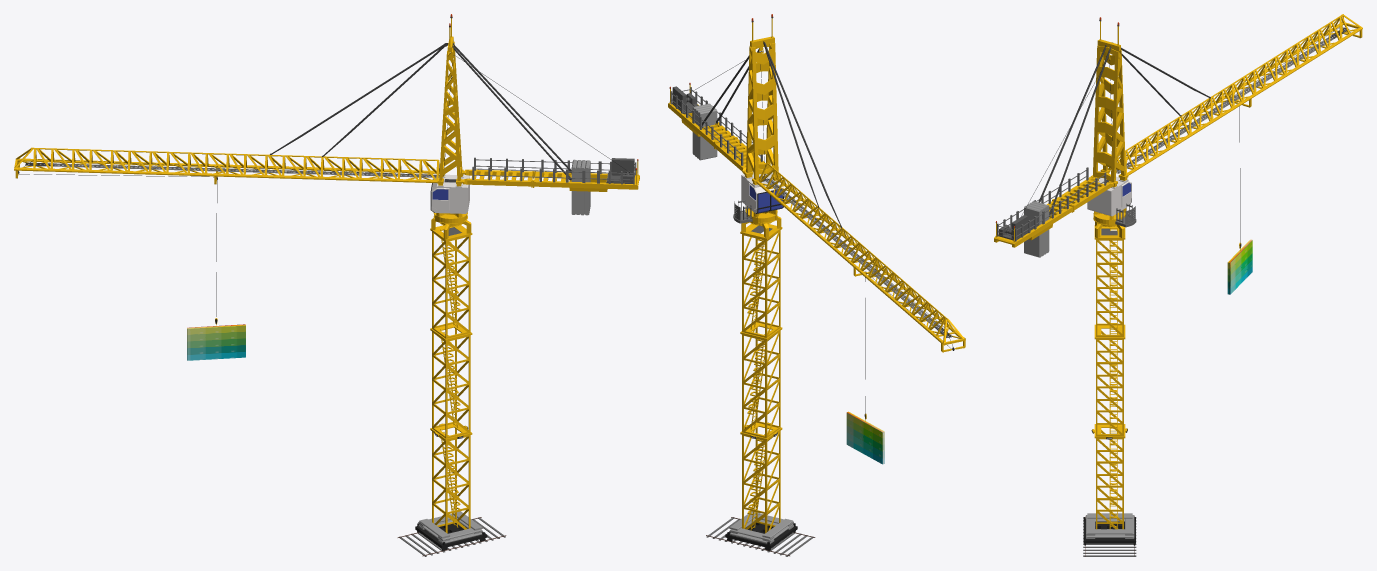
File: Crane.fbx
The picture shows the model from 3 angles, left to right: view 1: azimuth 30°, elevation 25°; view 2: azimuth 150°, elevation 25°; view 3: azimuth 270°, elevation 25°; orthographic projection.
Visible parts, largest first — view 1: Crane1; view 2: Crane1; view 3: Crane1.
Boxes of the visible parts, box(x1,y1,x2,y2) form: Crane1: box(14, 14, 639, 556); Crane1: box(668, 14, 965, 556); Crane1: box(994, 14, 1362, 556).
Size of the model in its own units: 79.2 by 85.24 by 55.15.
